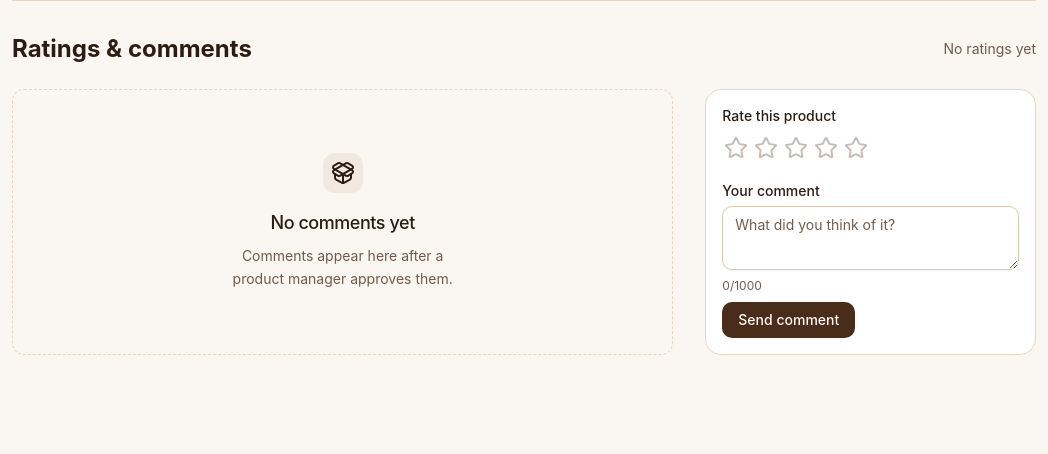
Scenario: ProductReviews gating › lets a customer with a delivered order send a comment and shows the pending notice
Type "Lovely" into the text box labelled "Your comment" at (871, 238), box [722, 206, 1019, 270]
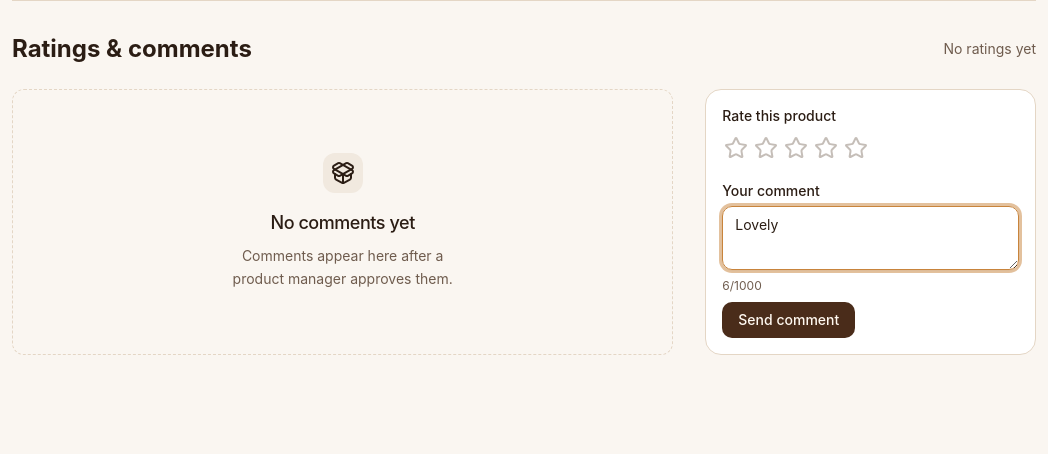
Click the button with test id "send-comment" at (789, 320), box [722, 302, 855, 338]
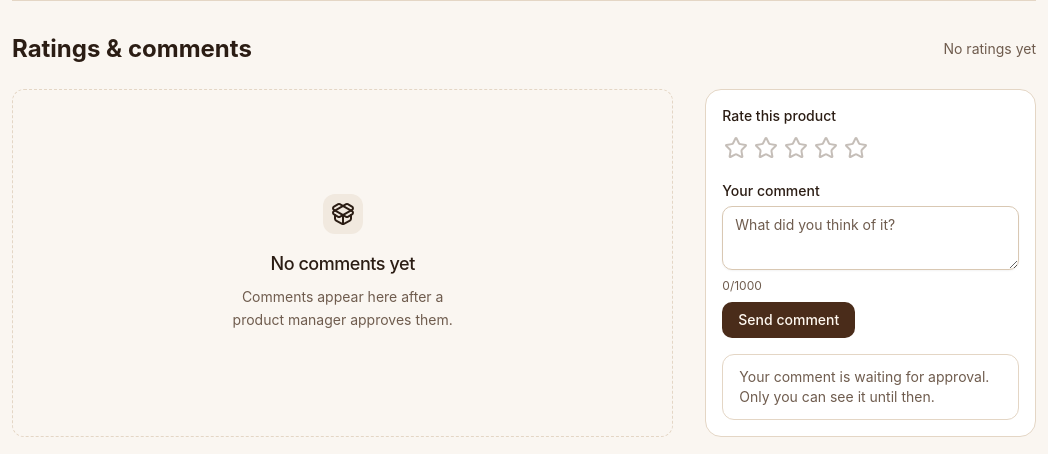
Expected: the message with test id "pending-notice" shows "waiting for approval", [739, 368, 989, 405]
